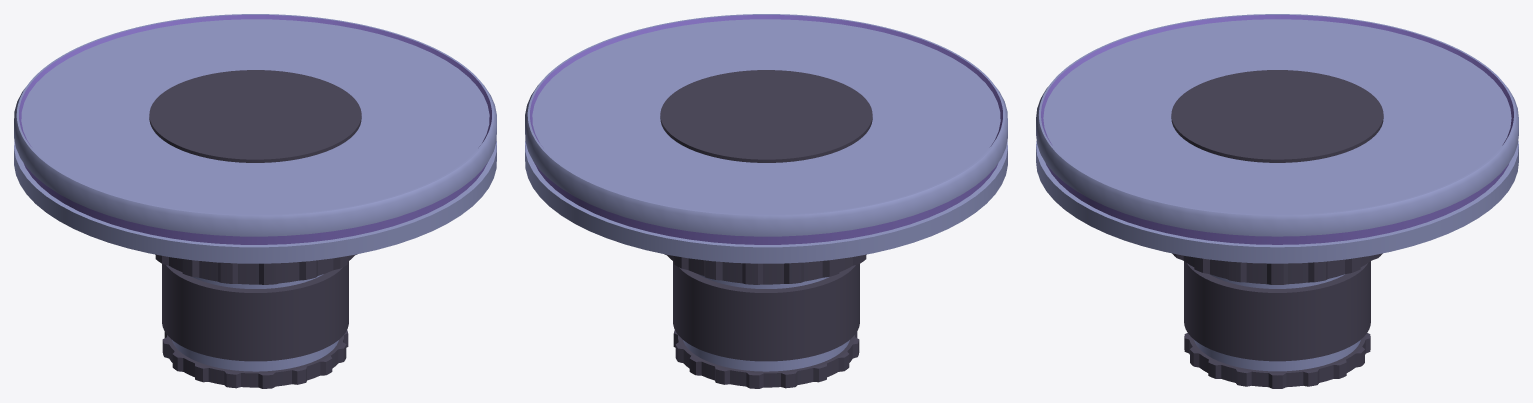
The model's file is plataforma_big.fbx.
3 views of the same model, side by side, from view 1: azimuth 30°, elevation 25°; view 2: azimuth 150°, elevation 25°; view 3: azimuth 270°, elevation 25° (orthographic).
Visible parts, largest first — view 1: Cylinder.014; view 2: Cylinder.014; view 3: Cylinder.014.
Boxes of the visible parts, x1,y1,x2,y2 form: Cylinder.014: [14, 14, 496, 388]; Cylinder.014: [525, 14, 1007, 388]; Cylinder.014: [1036, 14, 1518, 388].
Bounding box in the file's own units: 8 × 4.3 × 8.
